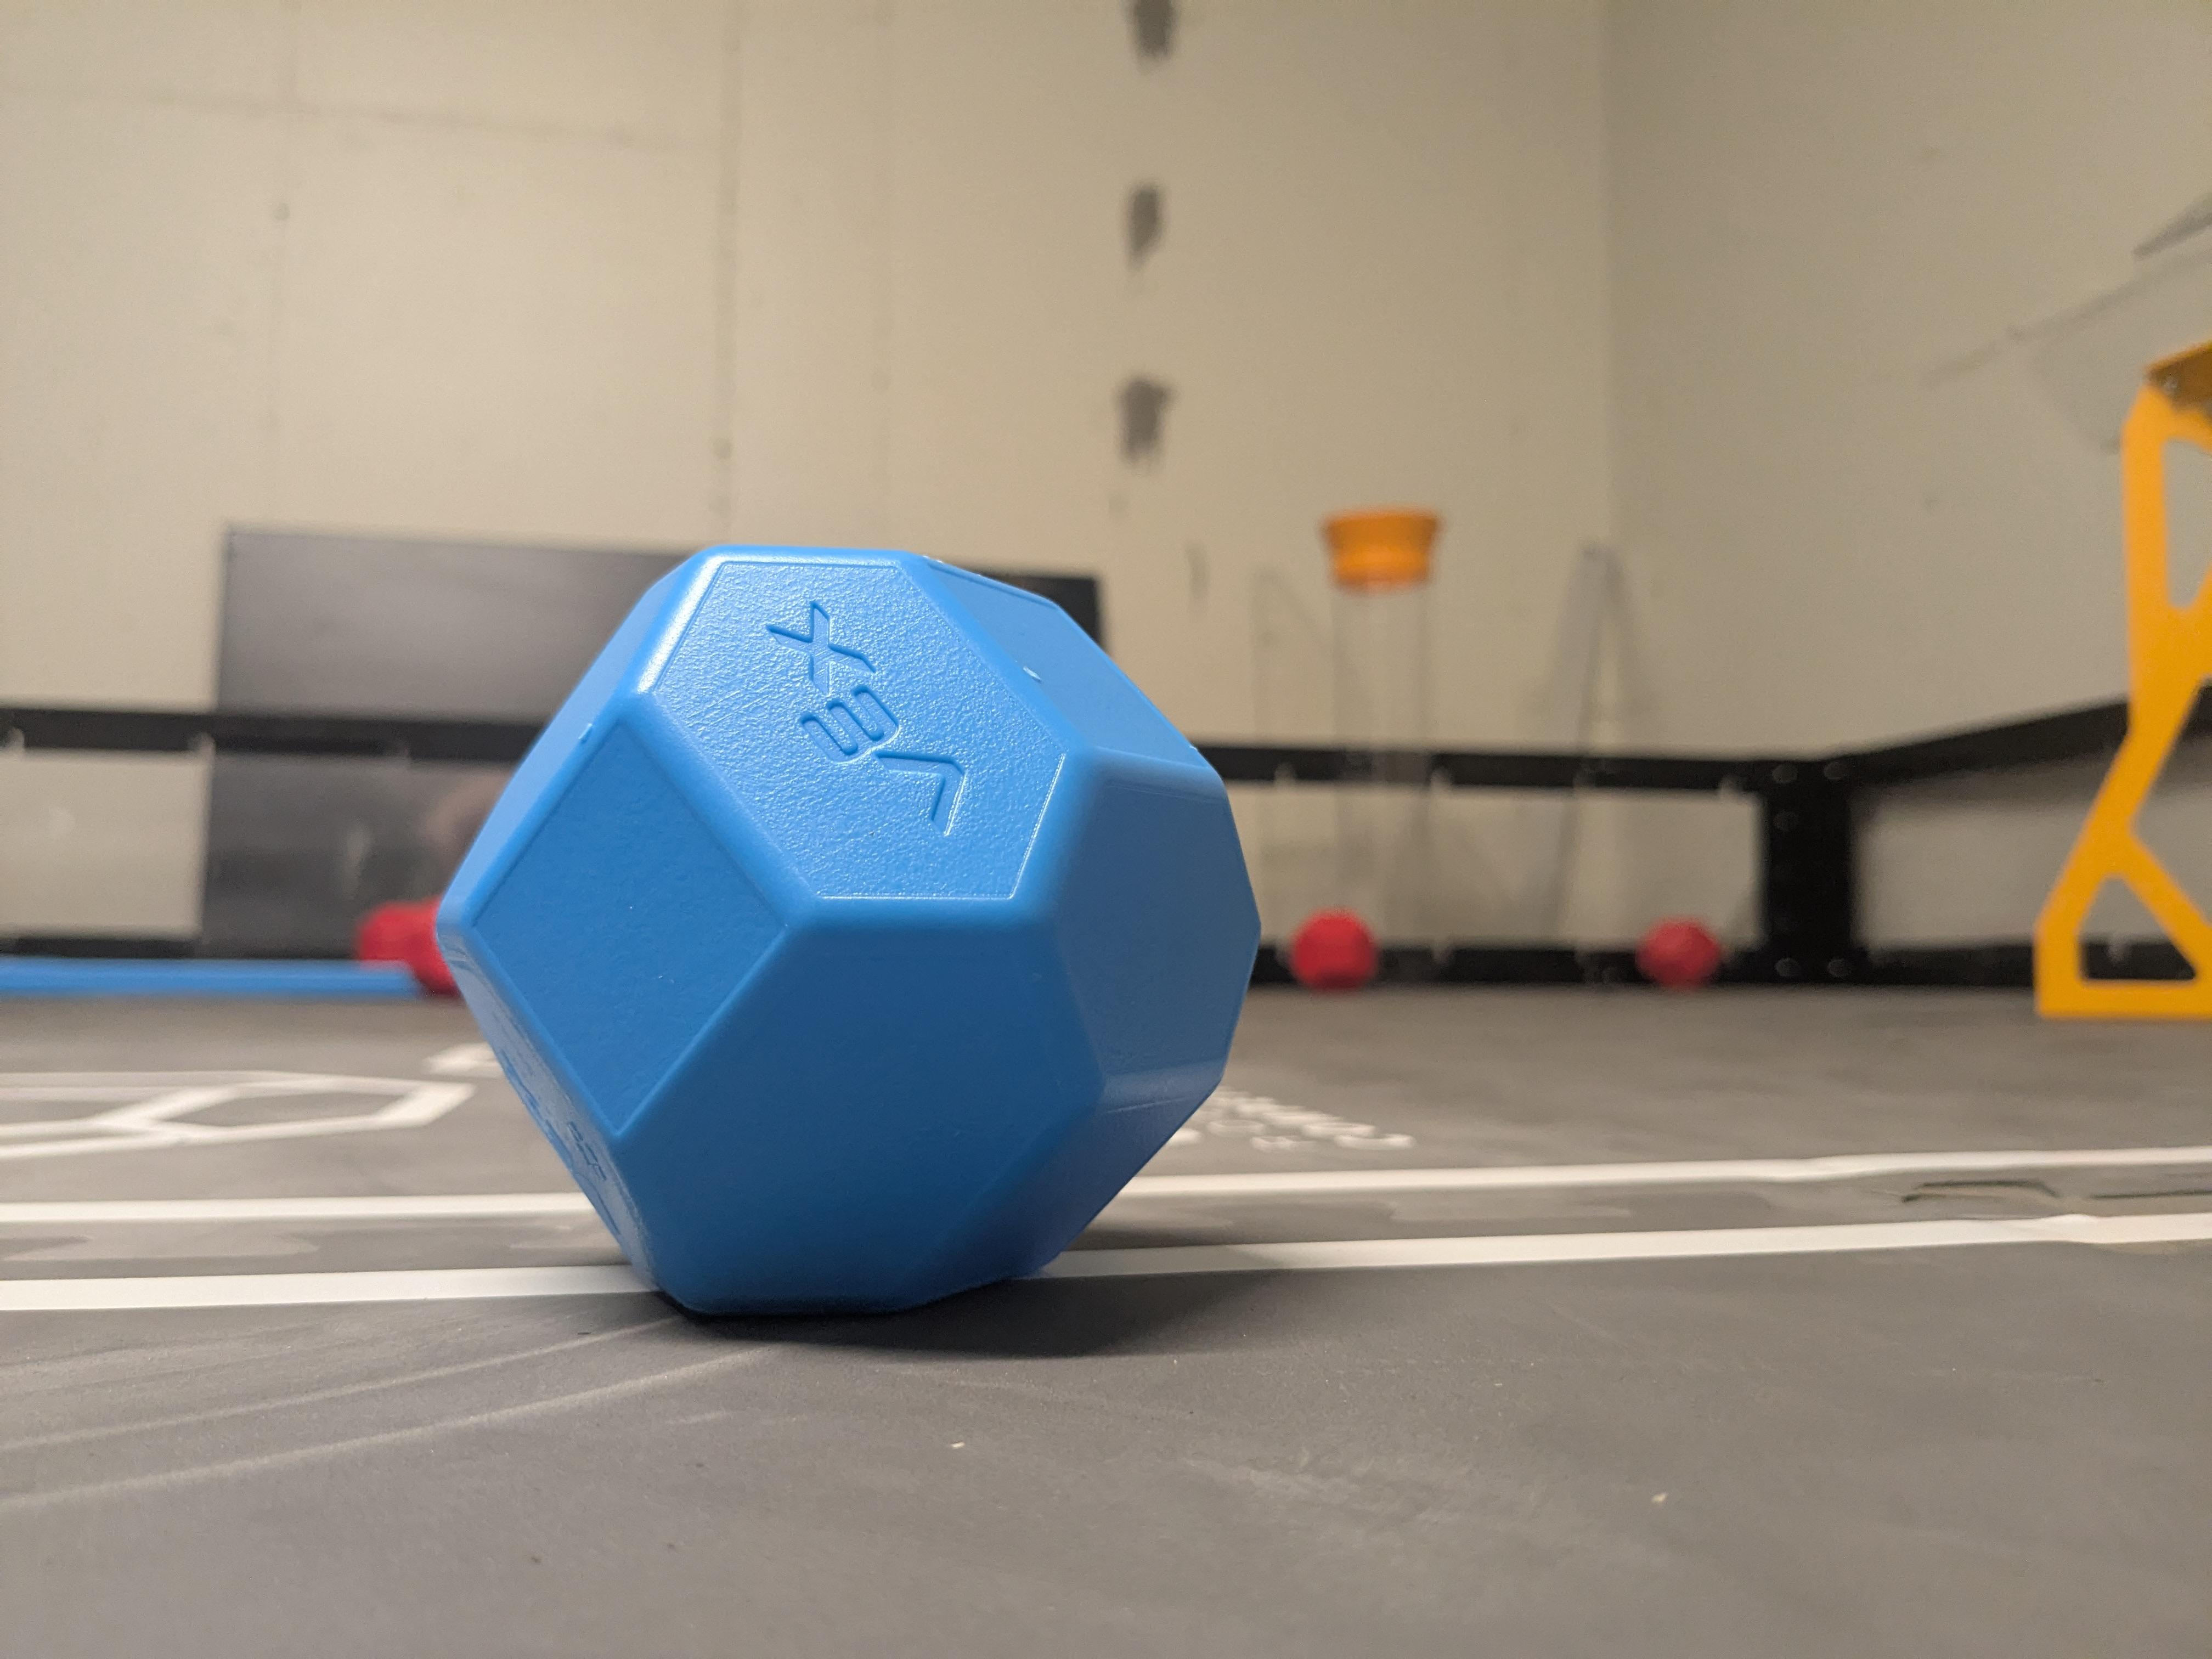Vex-Pieces-BLUE: (439, 545, 1259, 1310)
